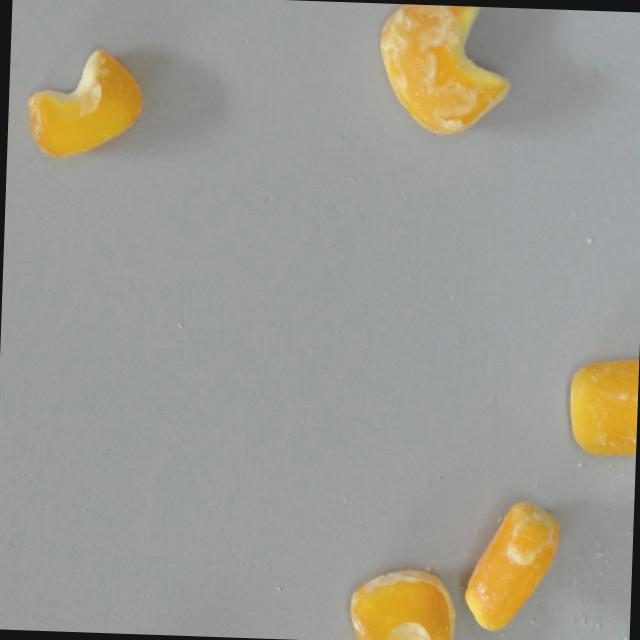pelicula: (376, 2, 515, 137), (23, 47, 144, 161), (462, 500, 559, 632), (347, 567, 456, 640)
